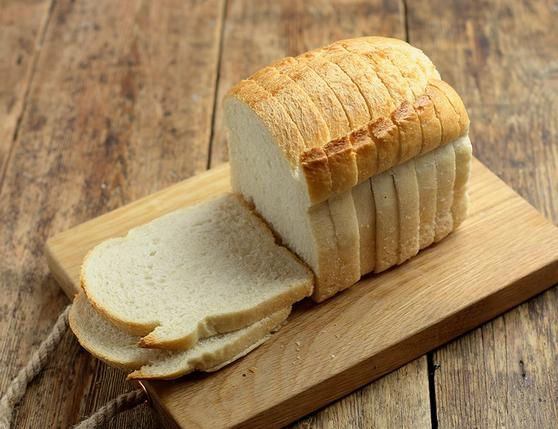white_bread: (223, 32, 475, 279)
